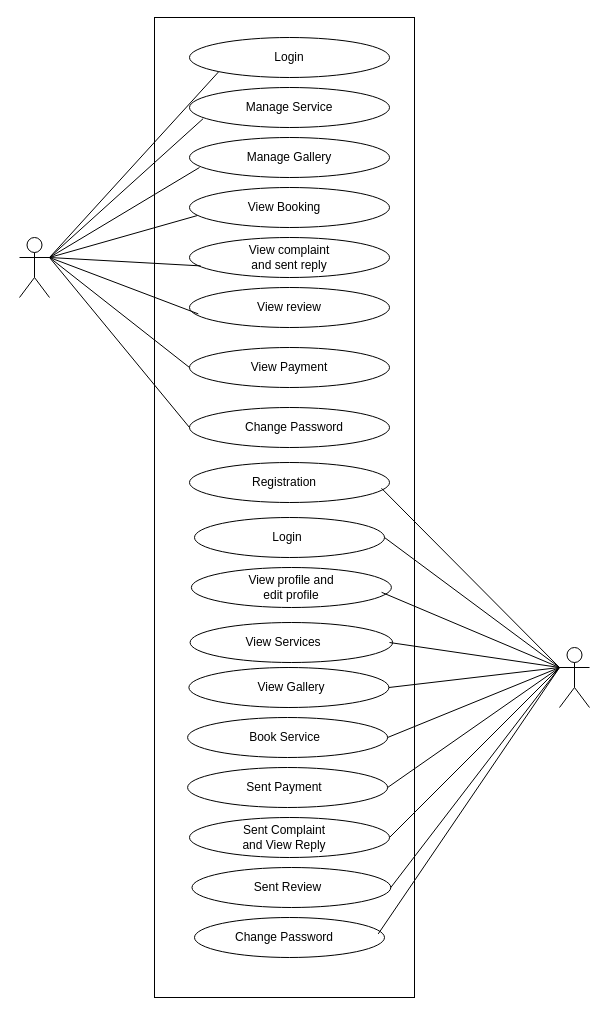
Some shapes in this 607 by 1015 pixel diagram are drawn without their labels. The centre of each missing label's shape, as x and y in pixels:
"Admin" goes at pixel 34 267.
"User" goes at pixel 574 677.
